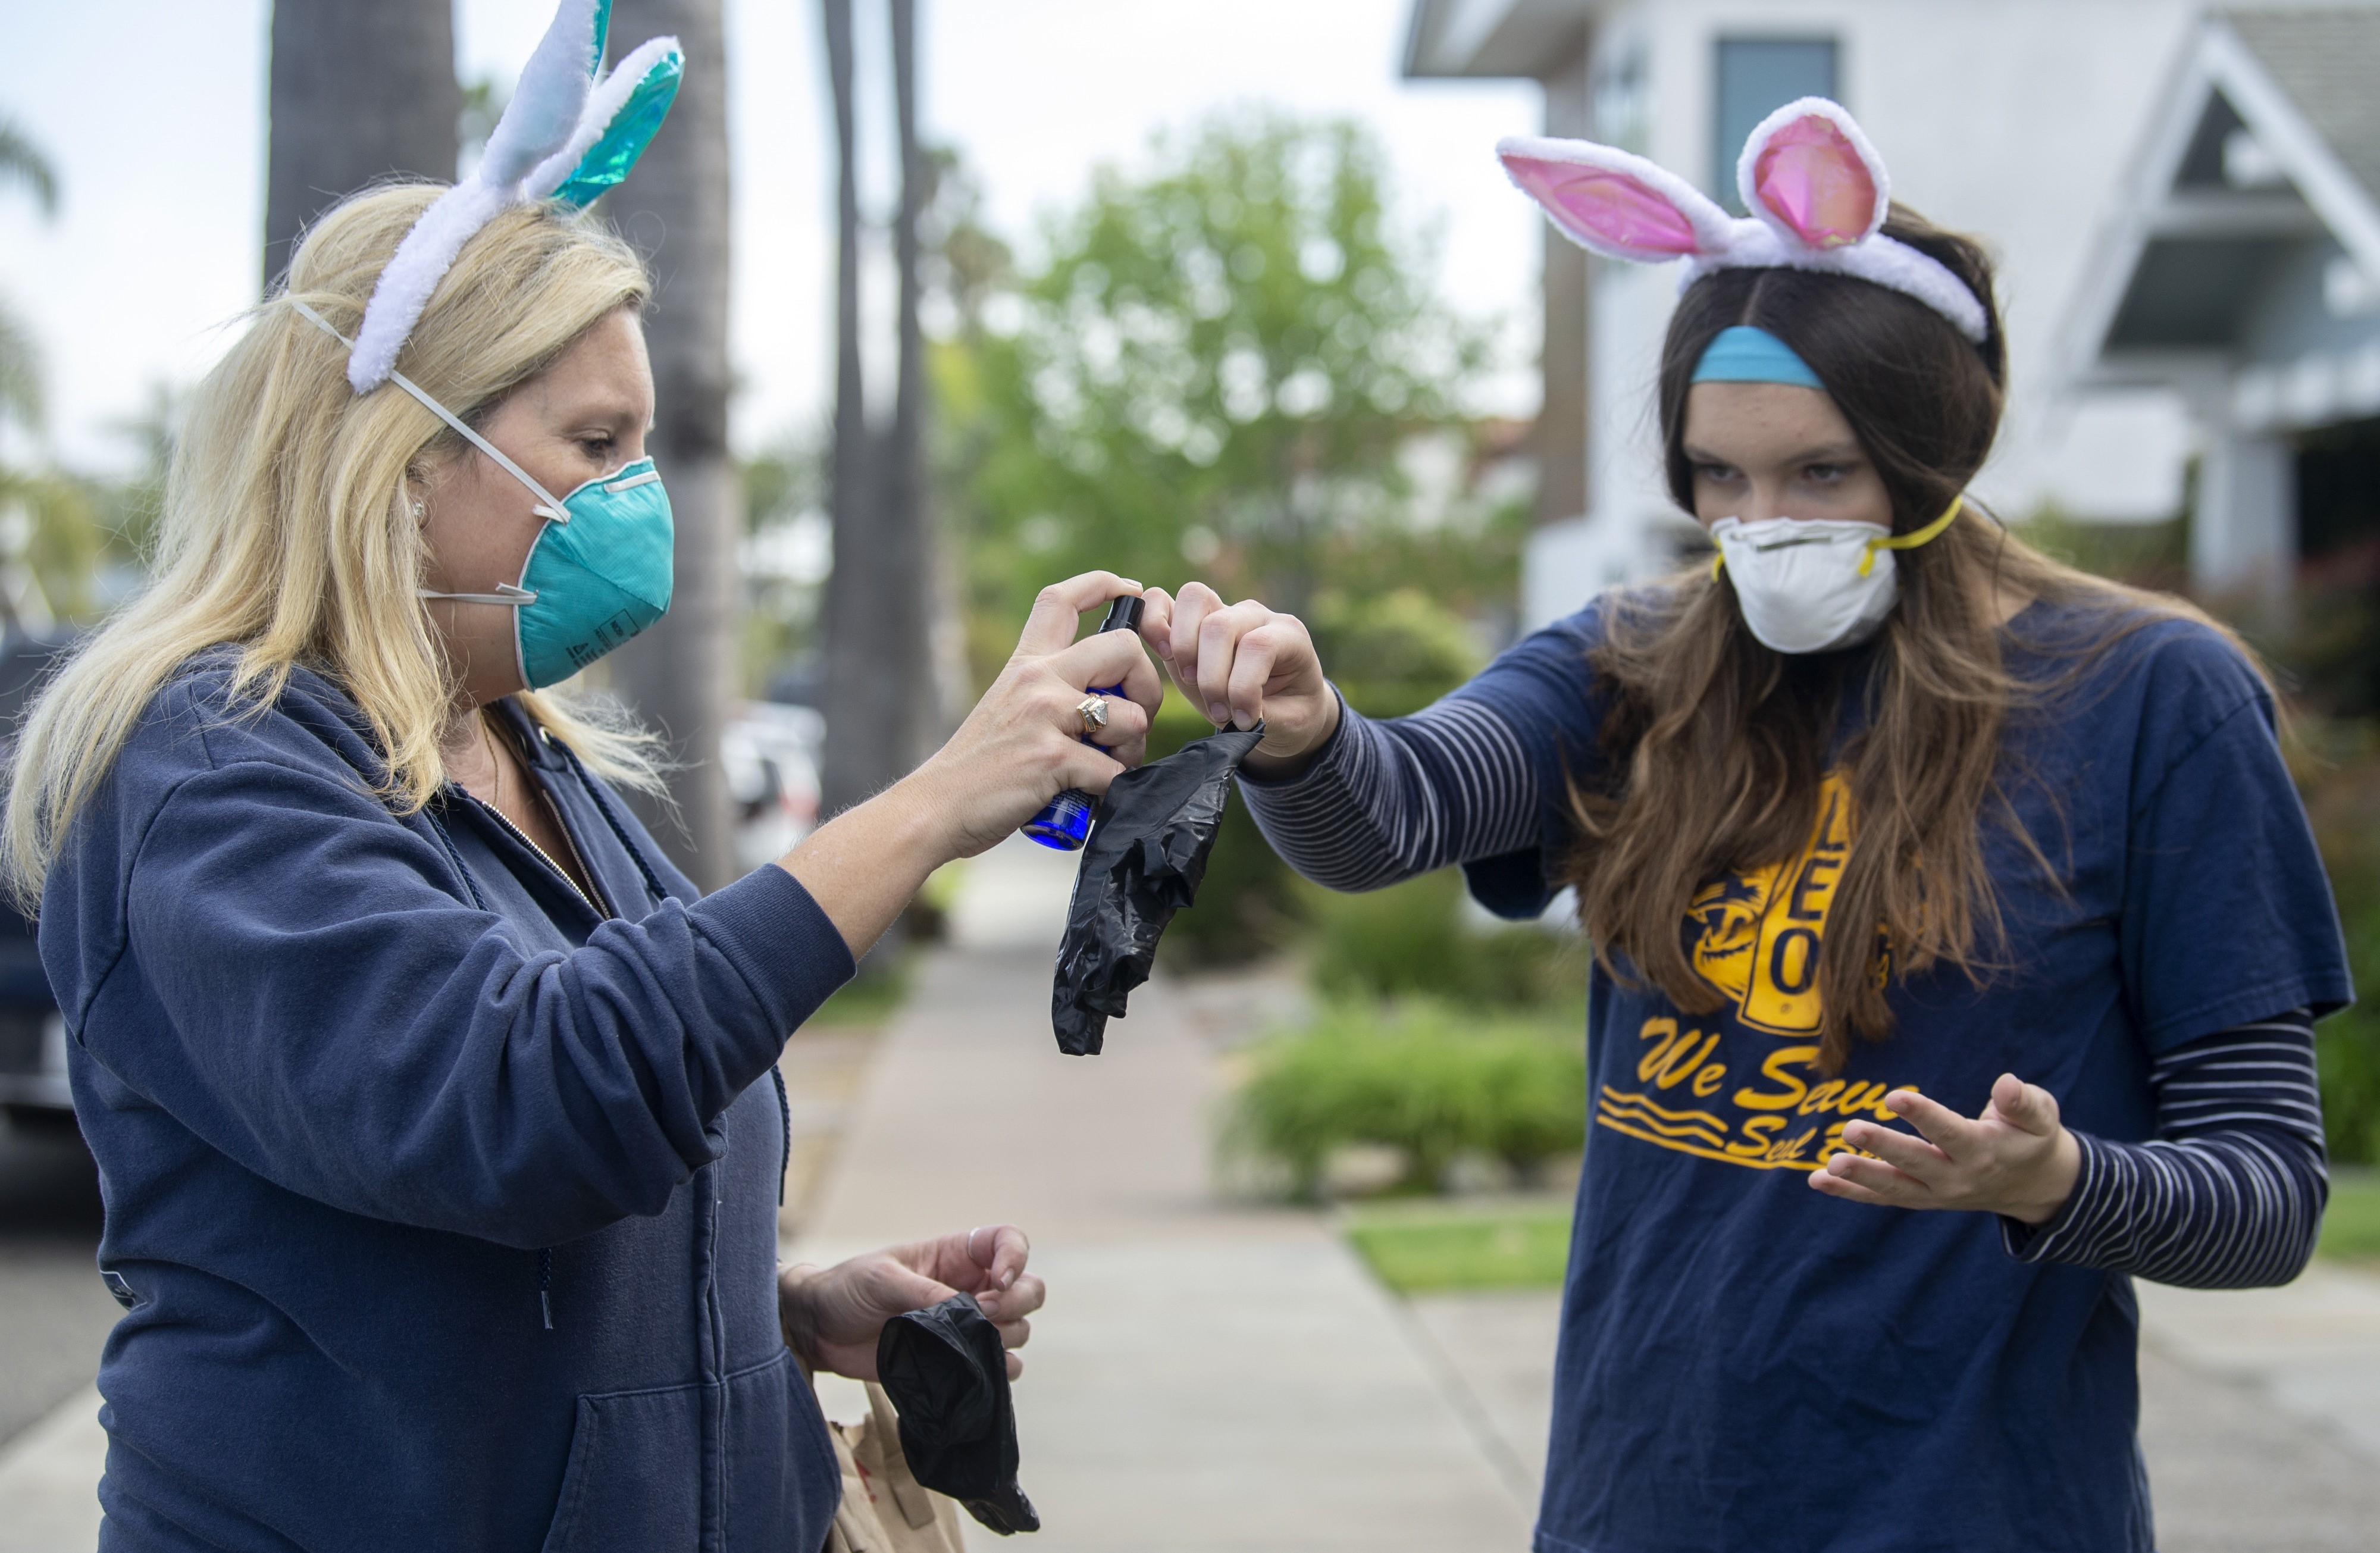face_with_mask: (352, 234, 713, 731), (1652, 243, 1991, 699)
